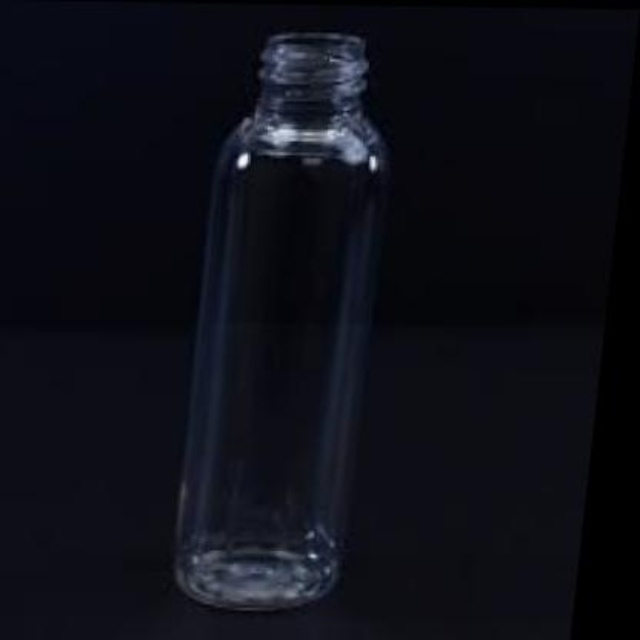trash: (174, 32, 389, 609)
